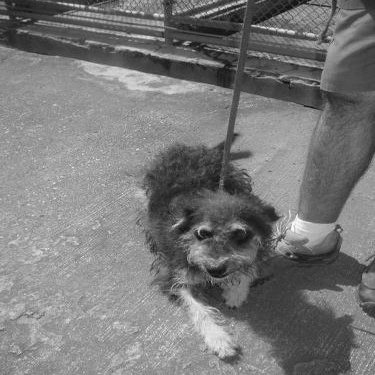dog: (140, 108, 284, 366)
